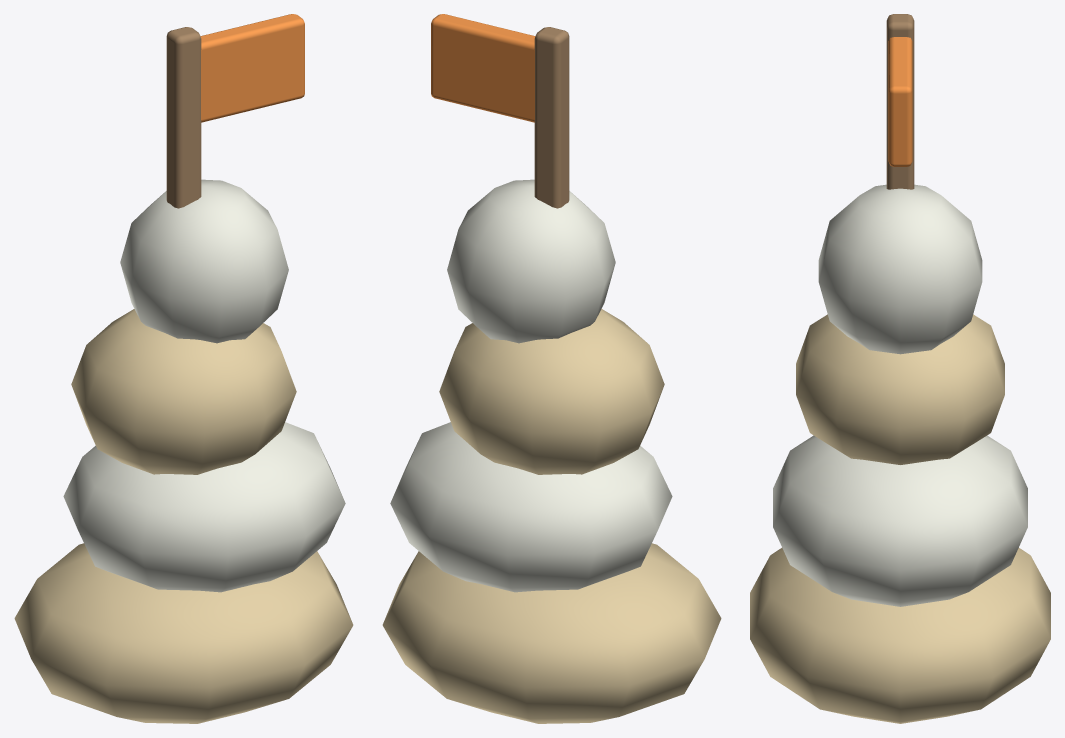
Rendered from castaway-island-escape-trail-cairn-marker-673b87b2__28074.glb.
3 renders of one model, left to right at view 1: azimuth 30°, elevation 25°; view 2: azimuth 150°, elevation 25°; view 3: azimuth 270°, elevation 25°, orthographic.
Visible parts, largest first — view 1: trail-cairn-marker-sand, trail-cairn-marker-ivory, trail-cairn-marker-orange, trail-cairn-marker-wood; view 2: trail-cairn-marker-sand, trail-cairn-marker-ivory, trail-cairn-marker-orange, trail-cairn-marker-wood; view 3: trail-cairn-marker-sand, trail-cairn-marker-ivory, trail-cairn-marker-orange, trail-cairn-marker-wood.
Part boxes in pixels (x1,y1,x2,y2): trail-cairn-marker-sand: [14, 309, 353, 723]; trail-cairn-marker-ivory: [63, 179, 345, 592]; trail-cairn-marker-orange: [200, 14, 304, 122]; trail-cairn-marker-wood: [166, 27, 201, 208]; trail-cairn-marker-sand: [382, 309, 721, 723]; trail-cairn-marker-ivory: [390, 179, 672, 592]; trail-cairn-marker-orange: [431, 14, 535, 122]; trail-cairn-marker-wood: [534, 27, 569, 208]; trail-cairn-marker-sand: [750, 314, 1050, 723]; trail-cairn-marker-ivory: [773, 184, 1027, 606]; trail-cairn-marker-orange: [888, 37, 912, 166]; trail-cairn-marker-wood: [886, 14, 914, 189].
Size of the model in its own units: 0.52 by 1.09 by 0.4375.
